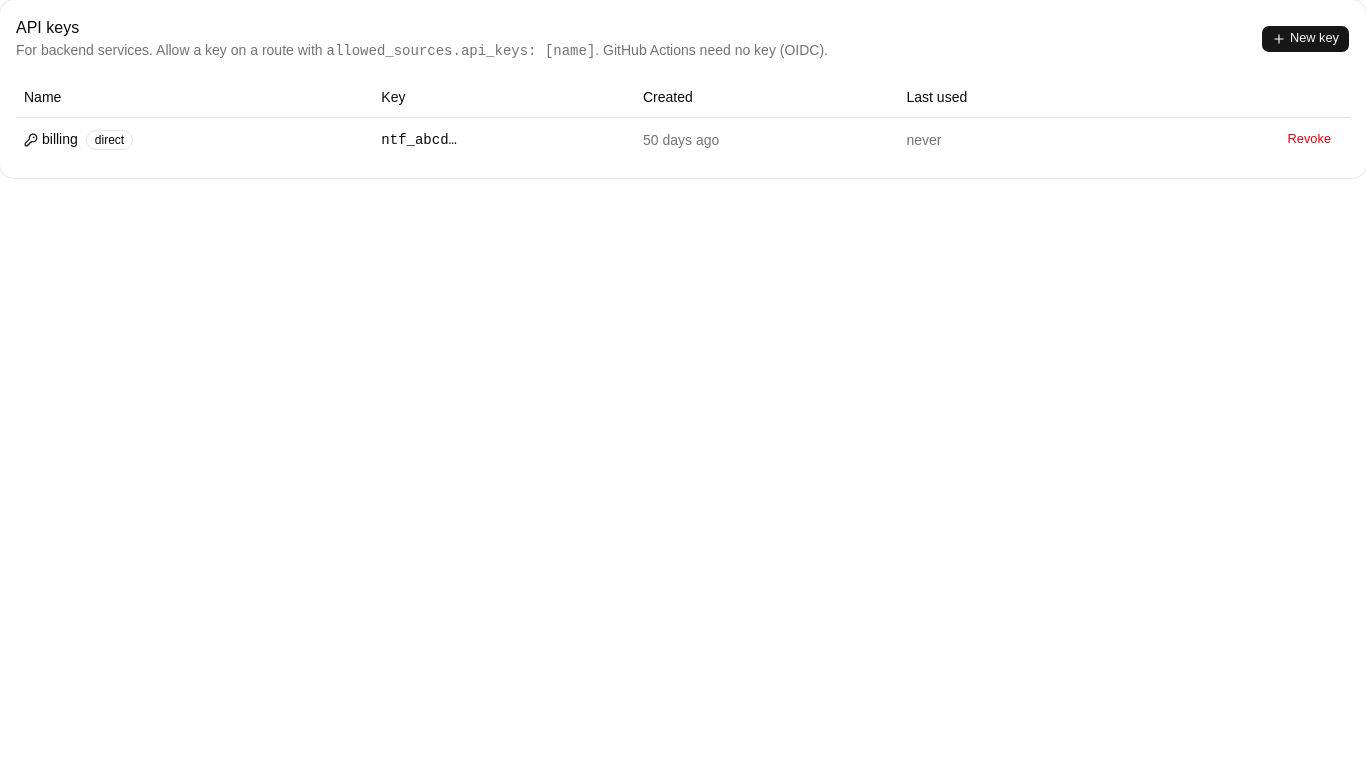
Test: ApiKeysTab › creates a key that may send direct messages
Expected: the icon "direct" is shown, [86,130,133,150]
Click the button "New key" at (1305, 38), box [1261,24,1350,52]
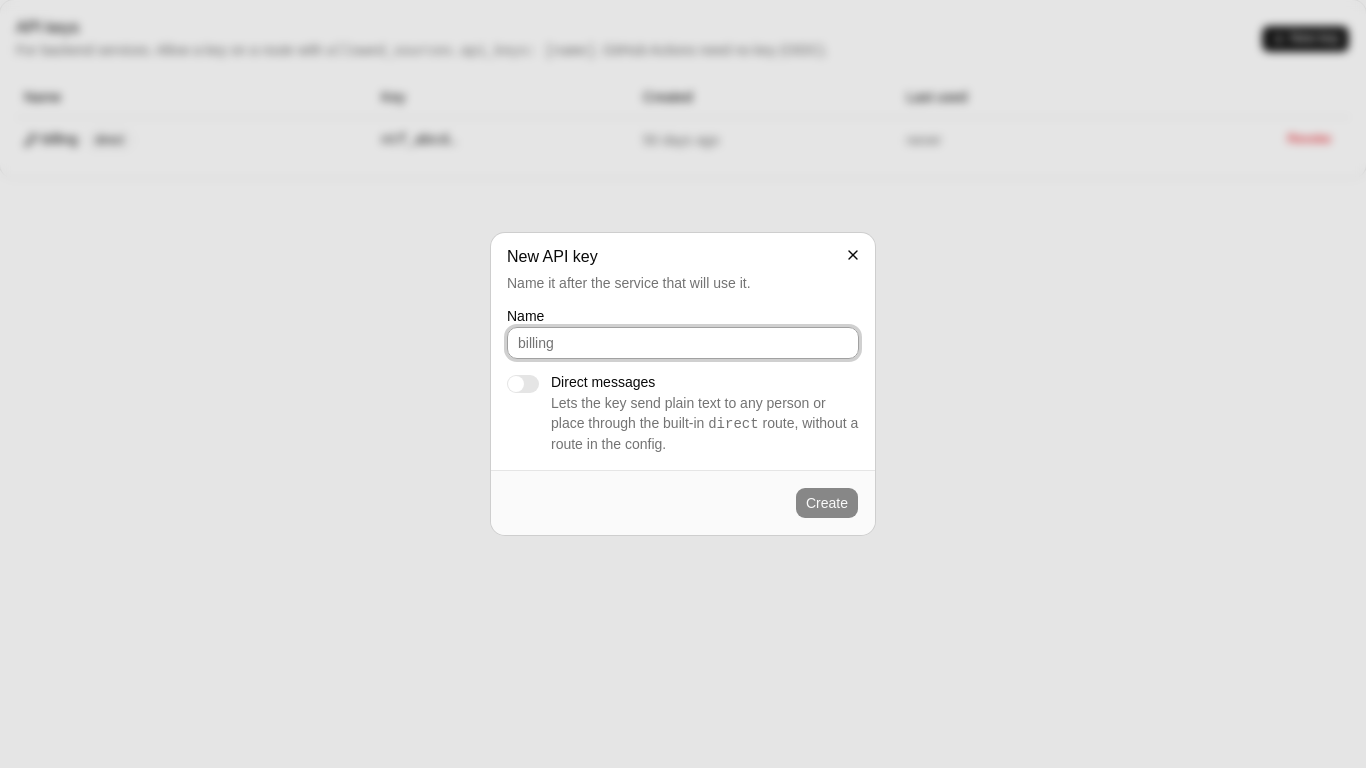
Type "ops" into the field labelled "Name" at (683, 343), box [507,327,859,359]
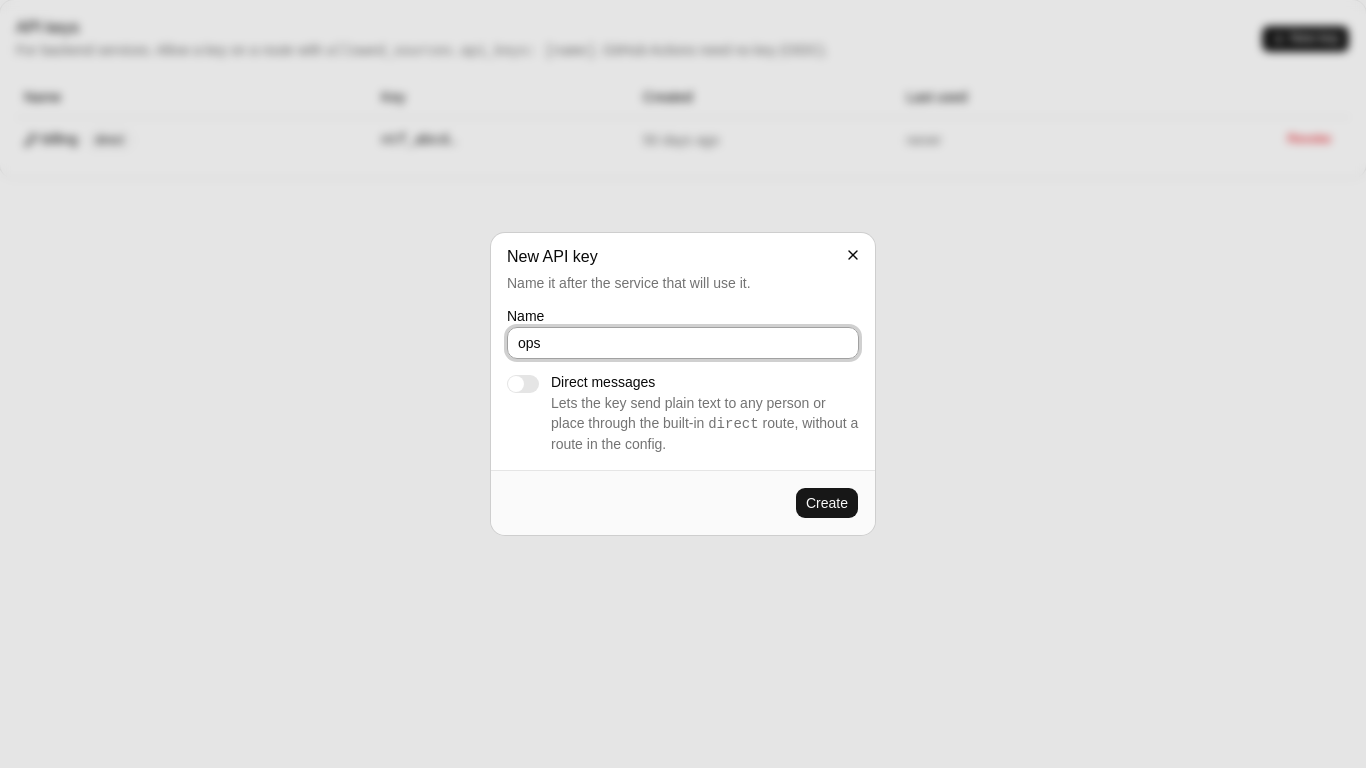
Click the switch named "Direct messages" at (523, 384), box [507,375,539,393]
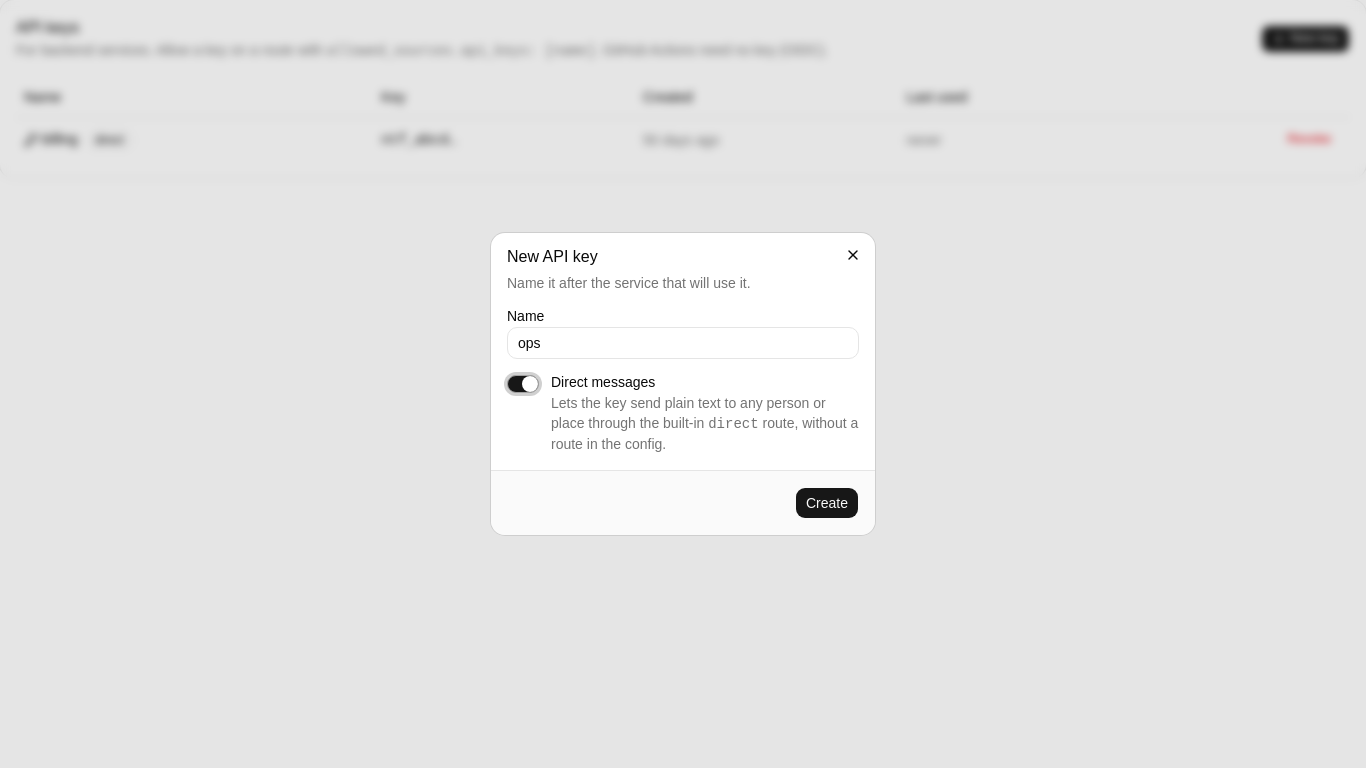
Click the button "Create" at (827, 503), box [795,487,859,519]
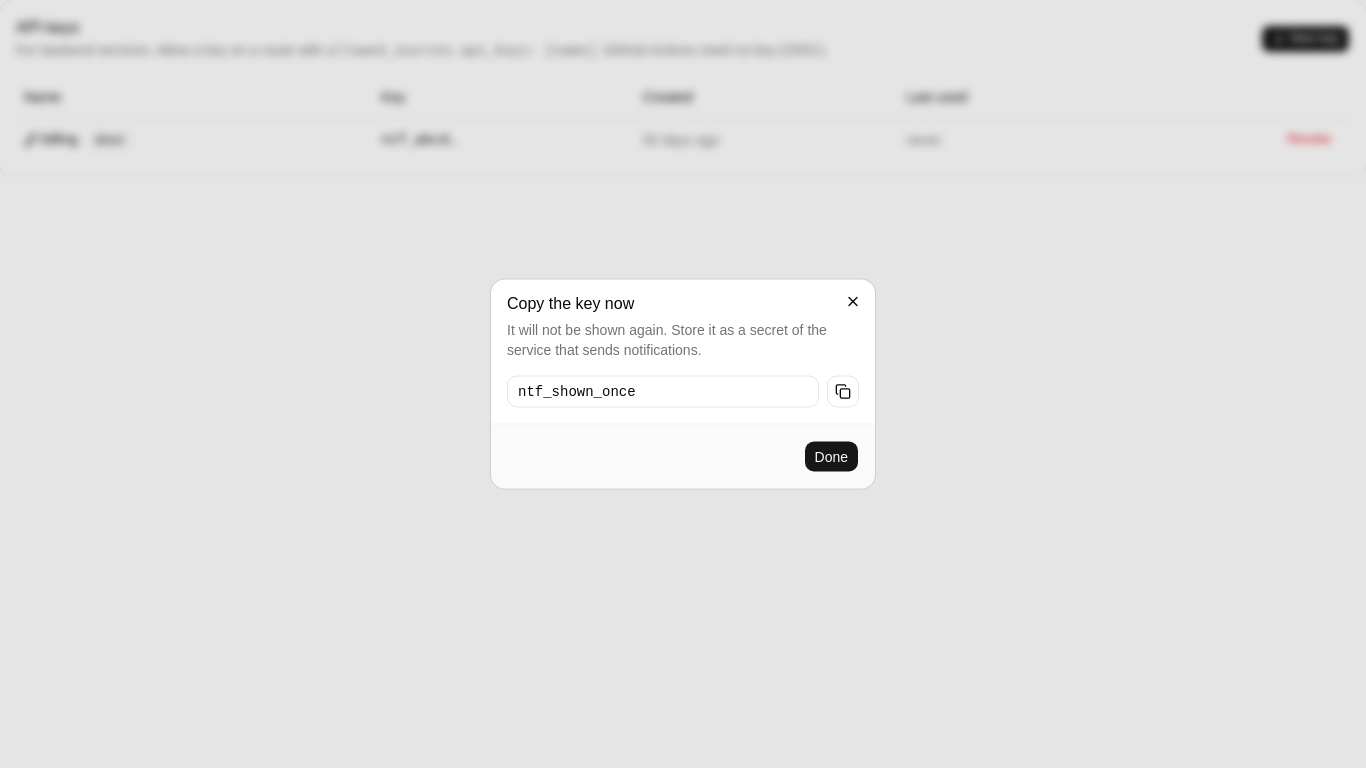
Result: the field showing "ntf_shown_once" is shown at [507,376,819,408]
